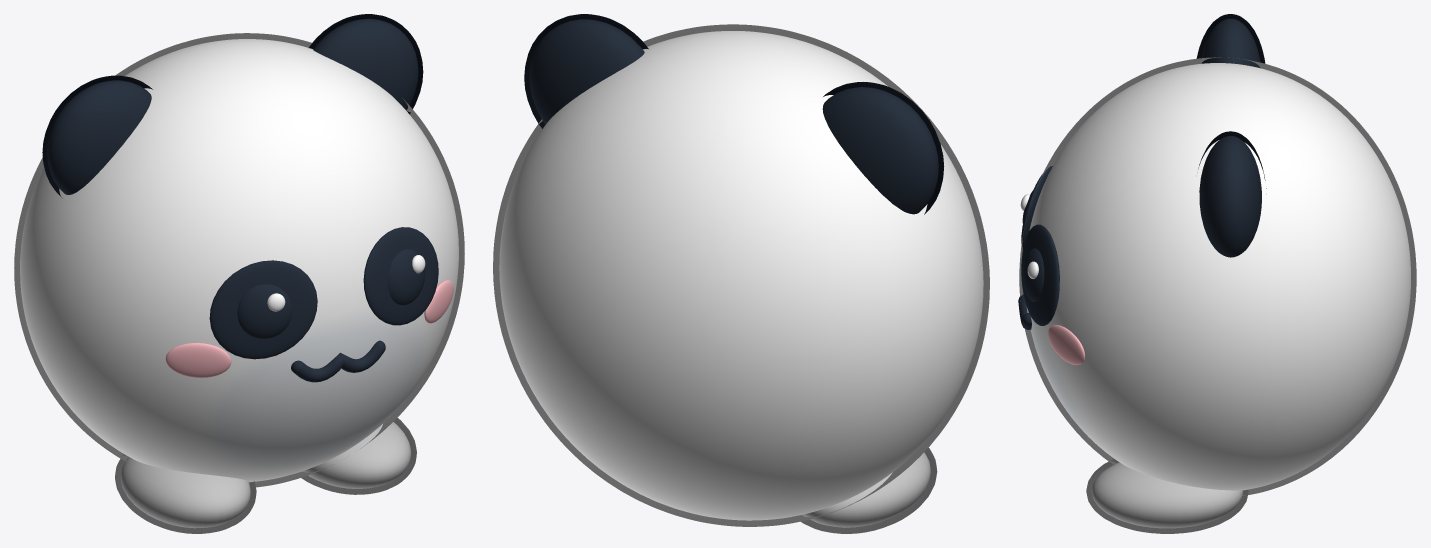
File: panda.glb
3 views of the same model, side by side, from view 1: azimuth 30°, elevation 25°; view 2: azimuth 150°, elevation 25°; view 3: azimuth 270°, elevation 25° (orthographic). The views are drawn at different scales.
Visible parts, largest first — view 1: body, patch_ear, foot, patch_ear.001, eye_patch, foot.001, eye_patch.001, eye, cheek, eye.001, mouth, cheek.001; view 2: body, patch_ear, patch_ear.001, foot; view 3: body, foot.001, patch_ear.001, patch_ear, eye_patch.001, cheek.001, eye.001, eye_patch.
Boxes of the visible parts, x1=… form: body: x1=14, y1=33, x2=464, y2=487; patch_ear: x1=42, y1=75, x2=152, y2=198; foot: x1=115, y1=454, x2=256, y2=533; patch_ear.001: x1=309, y1=14, x2=423, y2=114; eye_patch: x1=209, y1=260, x2=317, y2=359; foot.001: x1=301, y1=418, x2=416, y2=494; eye_patch.001: x1=363, y1=227, x2=438, y2=325; eye: x1=237, y1=284, x2=292, y2=338; cheek: x1=165, y1=342, x2=231, y2=377; eye.001: x1=387, y1=249, x2=425, y2=305; mouth: x1=291, y1=340, x2=385, y2=382; cheek.001: x1=424, y1=280, x2=453, y2=323; body: x1=493, y1=24, x2=989, y2=526; patch_ear: x1=822, y1=82, x2=944, y2=214; patch_ear.001: x1=524, y1=14, x2=648, y2=128; foot: x1=794, y1=447, x2=937, y2=533; body: x1=1019, y1=57, x2=1416, y2=495; foot.001: x1=1086, y1=458, x2=1248, y2=533; patch_ear.001: x1=1198, y1=131, x2=1266, y2=257; patch_ear: x1=1196, y1=14, x2=1265, y2=68; eye_patch.001: x1=1021, y1=224, x2=1059, y2=325; cheek.001: x1=1048, y1=325, x2=1085, y2=364; eye.001: x1=1022, y1=248, x2=1044, y2=302; eye_patch: x1=1021, y1=166, x2=1052, y2=250.
Size of the model in its own units: 1.74 by 1.79 by 1.58.
